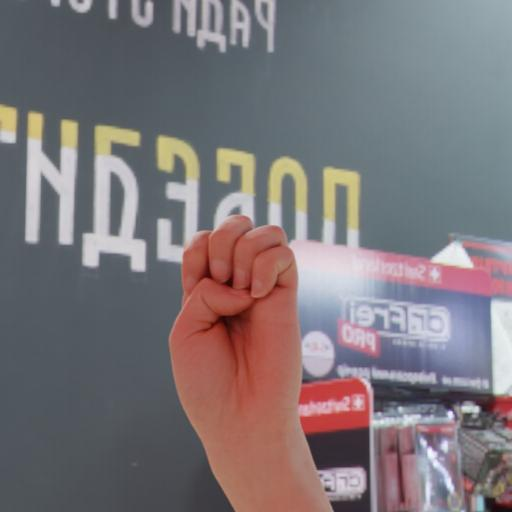E: (152, 206, 349, 512)
